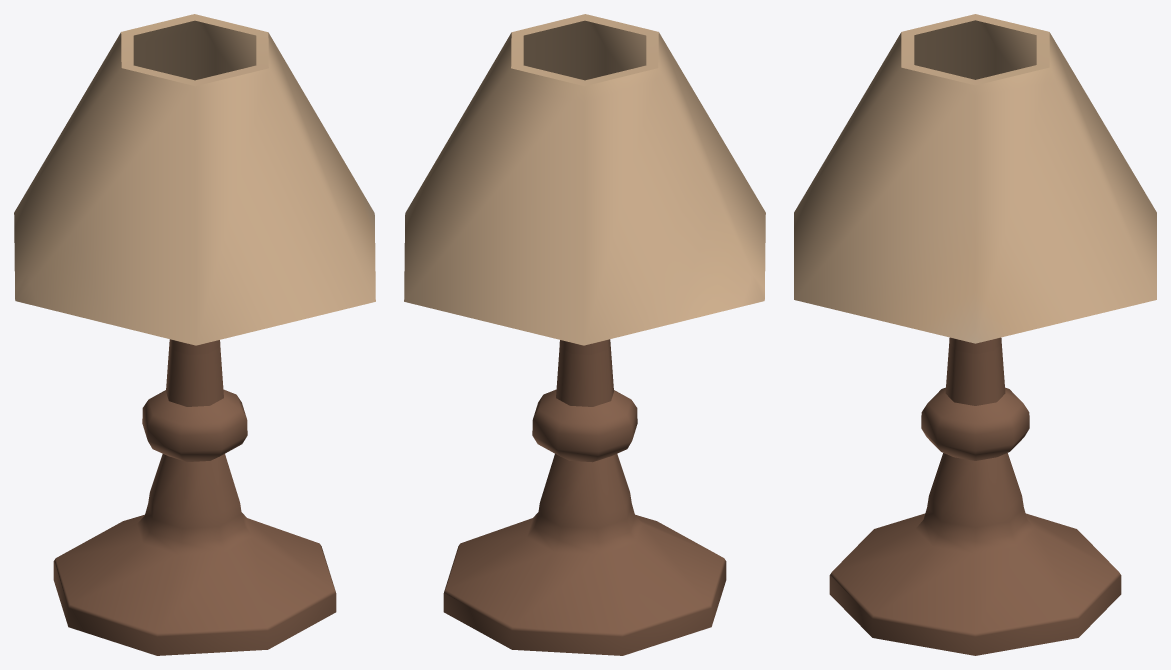
Rendered from abat-jour.fbx.
3 renders of one model, left to right at view 1: azimuth 30°, elevation 25°; view 2: azimuth 150°, elevation 25°; view 3: azimuth 270°, elevation 25°, orthographic.
Visible parts, largest first — view 1: Abat_Jour; view 2: Abat_Jour; view 3: Abat_Jour.
Boxes of the visible parts, left/top/right/bottom form: Abat_Jour: left=14, top=14, right=375, bottom=655; Abat_Jour: left=404, top=14, right=765, bottom=655; Abat_Jour: left=794, top=14, right=1156, bottom=655.
Size of the model in its own units: 10.56 by 15.33 by 9.25.
